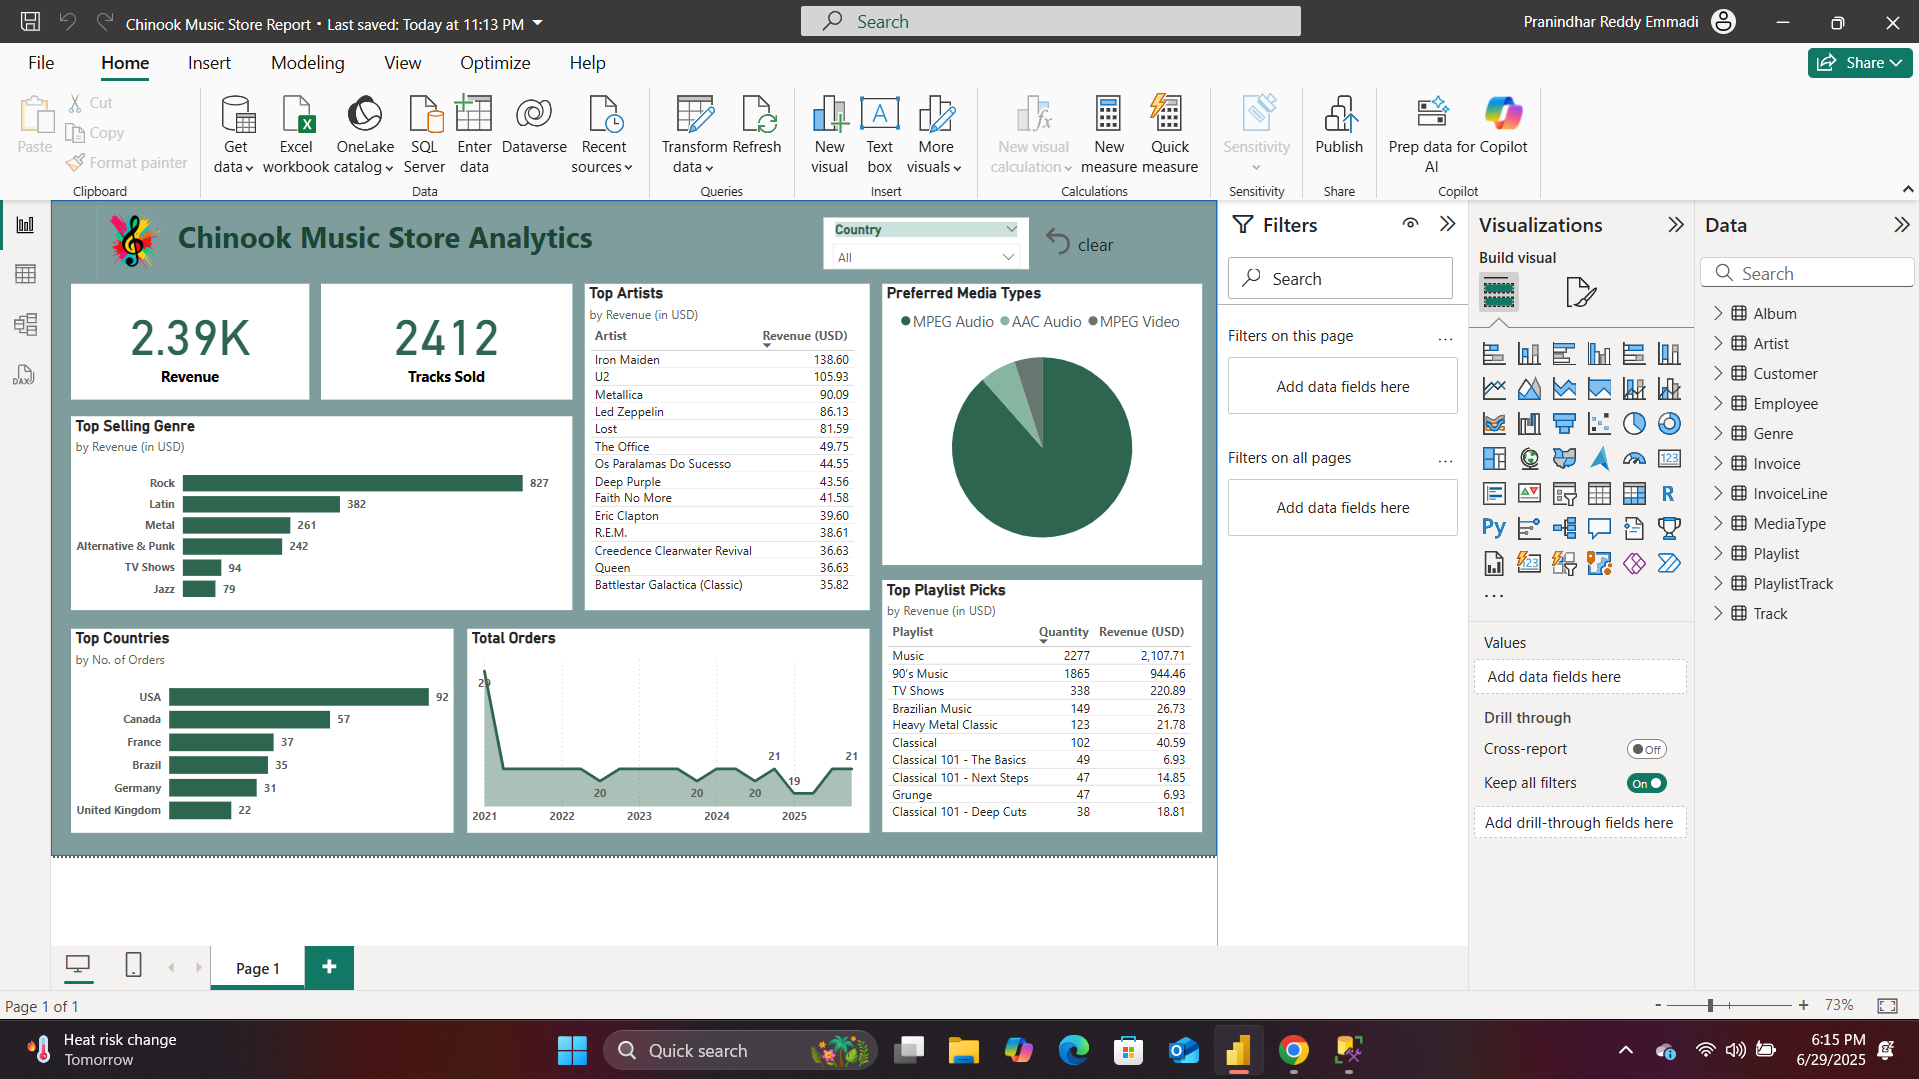

Layout of this report page (visuals, bound fields, positions):
{"tool":"powerbi","page":{"name":"Page 1","canvas":[1280,720],"ordinal":0},"visuals":[{"type":"shape","box":[0,0,1280,720],"z":0},{"type":"card","fields":{"Values":["Sum(Invoice.TotalPrice)"]},"box":[21.4,91.4,261.4,127.1],"z":1000},{"type":"card","fields":{"Values":["Sum(Invoice.Quantity)"]},"box":[295.7,91.4,275.7,127.1],"z":2000},{"type":"pieChart","title":"Preferred Media Types","fields":{"Category":["MediaType.Name"],"Y":["CountNonNull(InvoiceLine.InvoiceLineId)"]},"box":[912.9,91.4,351.4,308.6],"z":3000},{"type":"clusteredBarChart","title":"Top Selling Genre","fields":{"Category":["Genre.Name"],"Y":["Sum(InvoiceLine.UnitPrice)"]},"box":[21.4,237.1,550,212.9],"z":4000},{"type":"barChart","title":"Top Countries","fields":{"Category":["Customer.Country"],"Y":["CountNonNull(Invoice.InvoiceId)"]},"box":[21.4,470,420,224.3],"z":5000},{"type":"areaChart","title":"Total Orders","fields":{"Y":["CountNonNull(Invoice.InvoiceId)"],"Category":["Invoice.InvoiceDate.Variation.Date Hierarchy.Year","Invoice.InvoiceDate.Variation.Date Hierarchy.Quarter"]},"box":[457.1,470,441.4,224.3],"z":6000},{"type":"tableEx","title":"Top Artists","fields":{"Values":["Artist.Name","Sum(InvoiceLine.UnitPrice)"]},"box":[585.7,91.4,312.9,358.6],"z":7000},{"type":"tableEx","title":"Top Playlist Picks","fields":{"Values":["Playlist.Name","Sum(Invoice.Quantity)","Sum(InvoiceLine.UnitPrice)"]},"box":[912.9,417.1,351.4,277.1],"z":8000},{"type":"slicer","fields":{"Values":["Invoice.BillingCountry"]},"box":[848.6,18.6,225.7,57.1],"z":9000},{"type":"textbox","box":[134.3,14.3,505.7,71.4],"z":10000},{"type":"image","box":[45.7,0,91.4,92.9],"z":11000},{"type":"actionButton","box":[1049.3,20.7,145.7,50.7],"z":12000},{"type":"actionButton","box":[1085.8,25,148.3,40],"z":13000},{"type":"textbox","box":[1122.5,31.7,90.8,37.5],"z":14000}]}

Visuals, with their boxes on the page's 1280x720 design canvas (x1, y1, x2, y2). These are canvas units, not pixel positions in the 1919x1079 screenshot, which may show the page scaled, cropped or inside an application window:
shape: 0:0:1280:720
card - Sum(Invoice.TotalPrice): 21:91:283:218
card - Sum(Invoice.Quantity): 296:91:571:218
"Preferred Media Types" pieChart: 913:91:1264:400
"Top Selling Genre" clusteredBarChart: 21:237:571:450
"Top Countries" barChart: 21:470:441:694
"Total Orders" areaChart: 457:470:898:694
"Top Artists" tableEx: 586:91:899:450
"Top Playlist Picks" tableEx: 913:417:1264:694
slicer - Invoice.BillingCountry: 849:19:1074:76
textbox: 134:14:640:86
image: 46:0:137:93
actionButton: 1049:21:1195:71
actionButton: 1086:25:1234:65
textbox: 1122:32:1213:69
